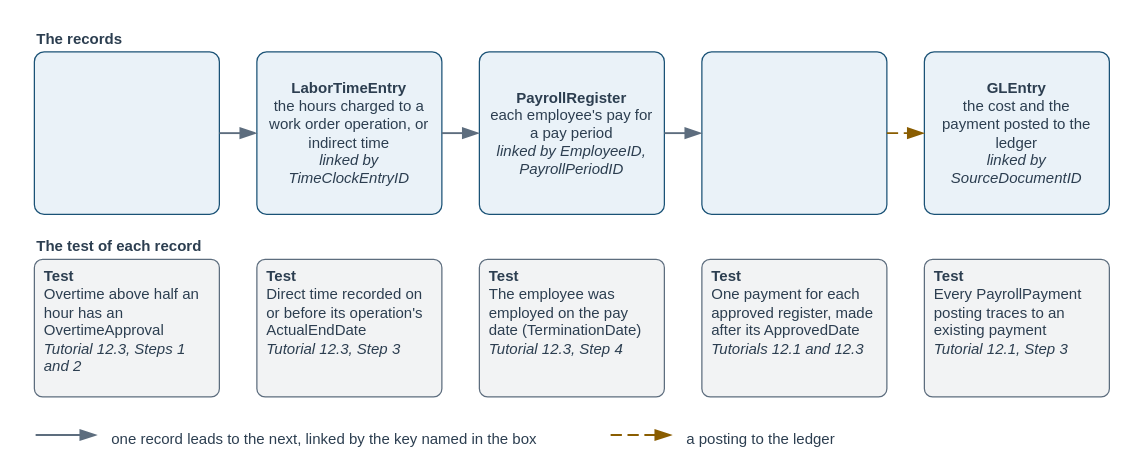
This 1133x473 diagram has some shape labels left out. The shapes that lost their labels are listed below. From the top down, each one's centre as x and y in pixels, then its label:
At (126,132): "TimeClockEntry the hours clocked each day, regular and overtime".
At (794,132): "PayrollPayment the net pay disbursed linked by PayrollRegisterID".
